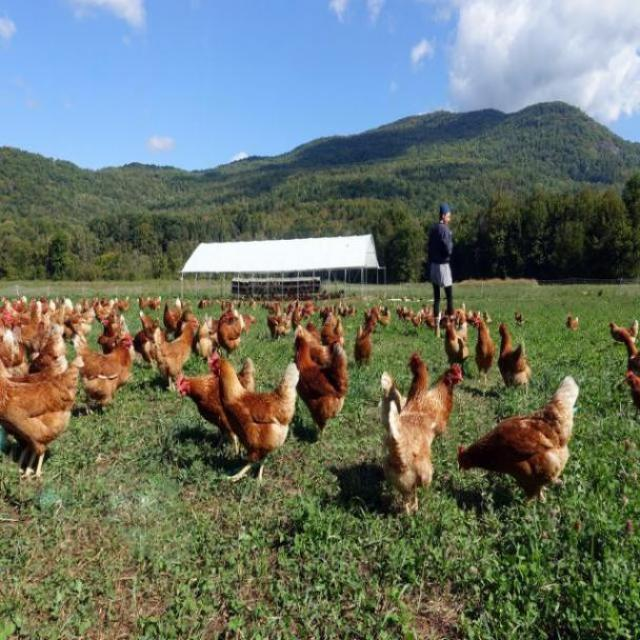Chicken: (0, 290, 259, 484), (262, 293, 436, 445), (449, 372, 584, 512), (184, 347, 300, 476), (381, 350, 435, 525), (374, 369, 469, 450), (499, 320, 532, 409), (472, 310, 497, 398), (441, 314, 468, 384), (600, 319, 637, 344), (621, 367, 640, 412), (625, 333, 640, 380), (564, 309, 579, 342), (480, 308, 496, 327)
